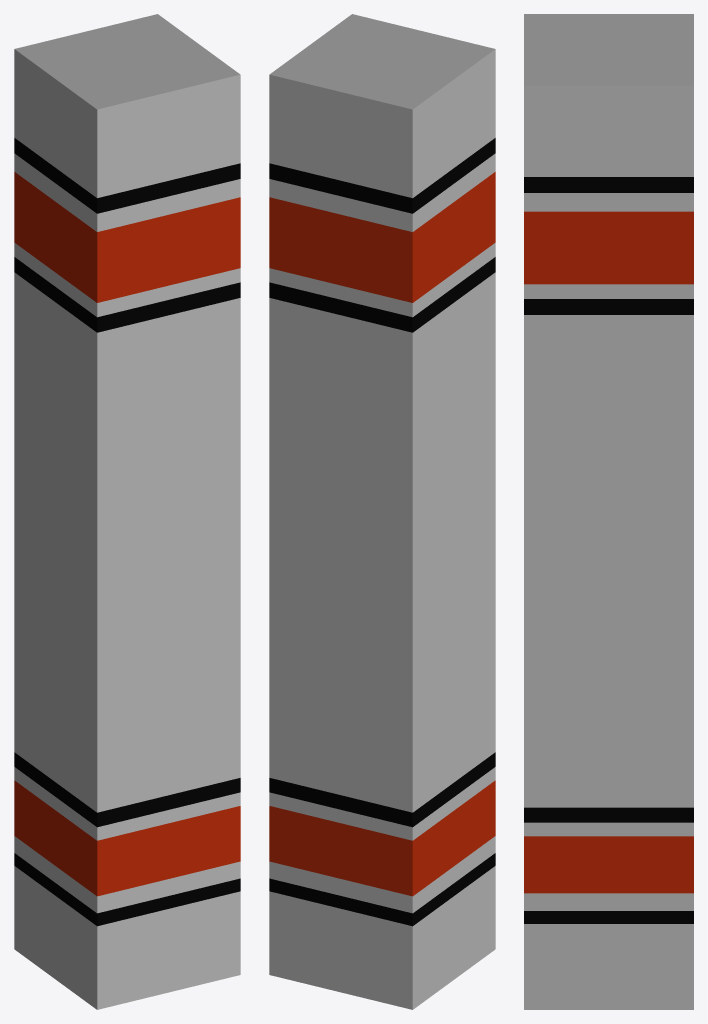
File: Mur_labo_6x1.FBX
3 views of the same model, side by side, from view 1: azimuth 30°, elevation 25°; view 2: azimuth 150°, elevation 25°; view 3: azimuth 270°, elevation 25° (orthographic). The views are drawn at different scales.
Parts seen in each view (by area): view 1: Box005; view 2: Box005; view 3: Box005.
Part boxes in pixels (x1,y1,x2,y2): Box005: (14,14,240,1009); Box005: (269,14,495,1009); Box005: (524,14,693,1009).
Bounding box in the file's own units: 1 × 6 × 0.9999.
